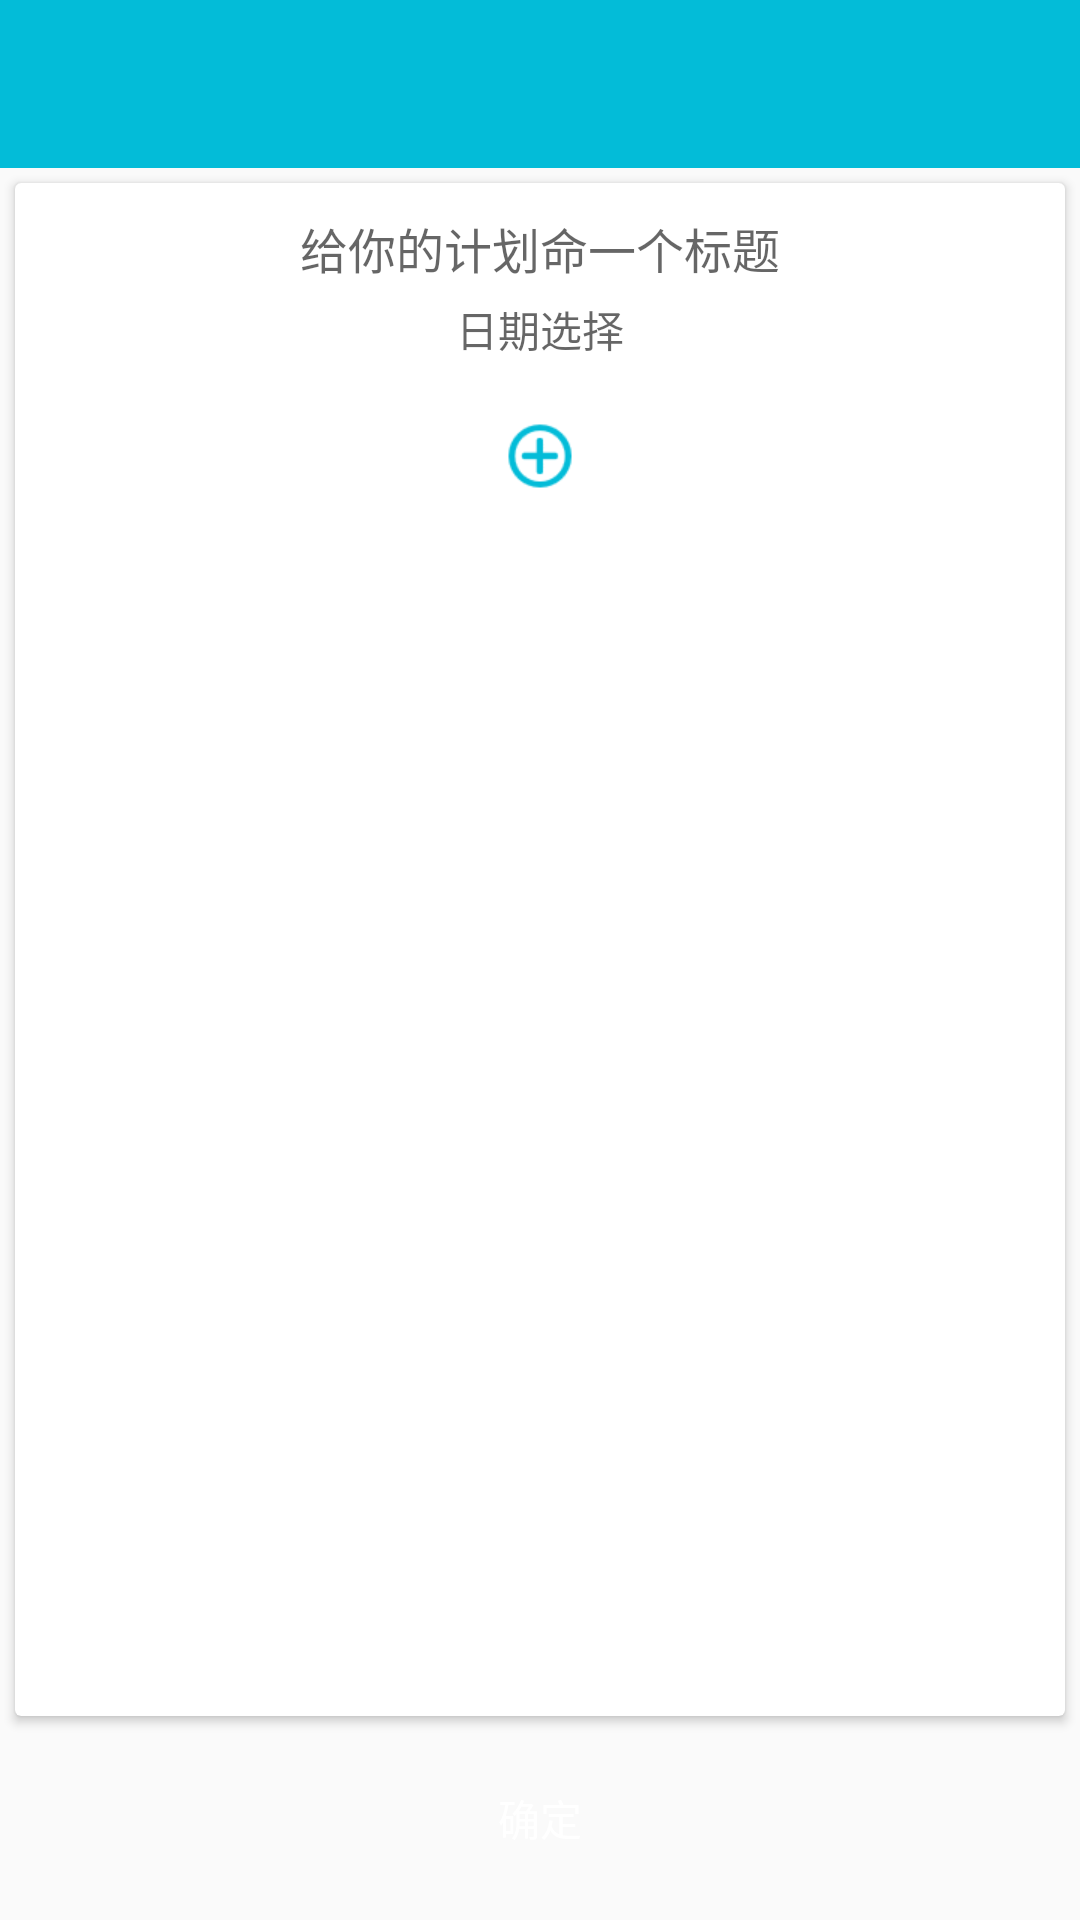

Screen size 1080w x 1920h. Icon name, then its center in pixels as [x,y]:
add: [540,456]
